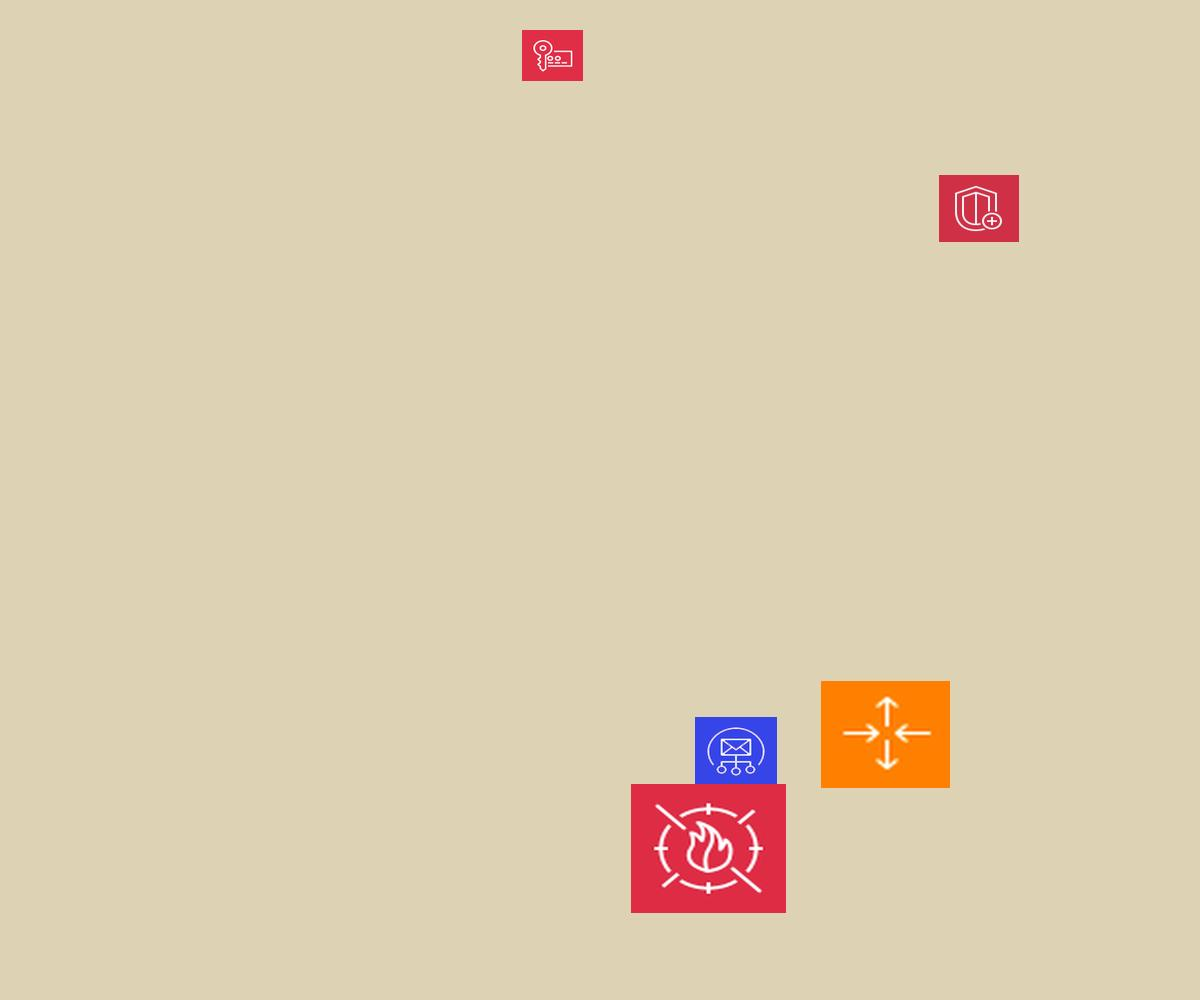AWS-Key-Management-Service: (522, 30, 583, 81)
AWS-Scaling-group: (821, 681, 950, 788)
AWS-Shield: (939, 175, 1019, 242)
AWS-Simple-Email-Service: (695, 717, 777, 786)
AWS-WAF: (631, 784, 786, 913)
